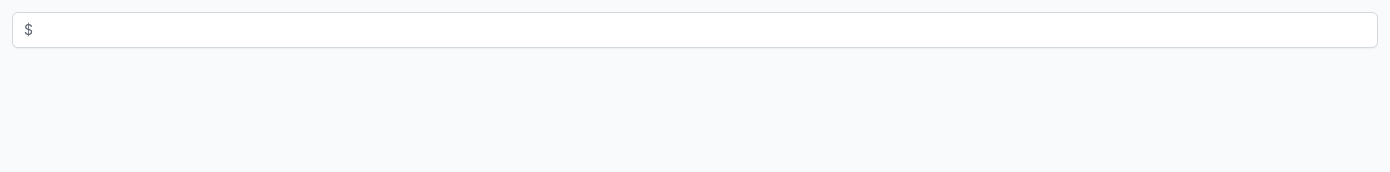
Scenario: MoneyInput › emits integer cents and flags invalid text
Type "19.99" into the field named "Amount".
click(695, 30); type("19.99")  # box [12,12,1378,48]
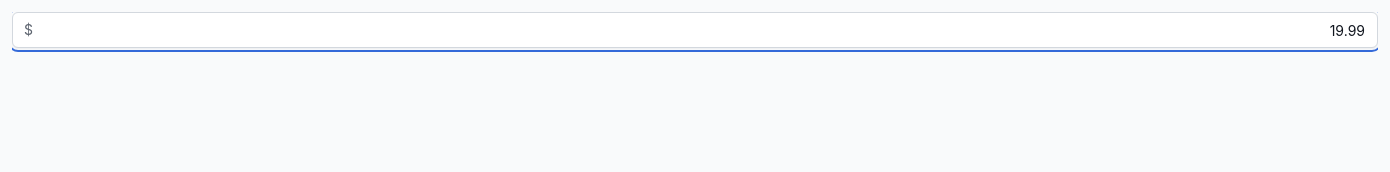
Type "9" into the field named "Amount".
click(695, 30); type("9")  # box [12,12,1378,48]
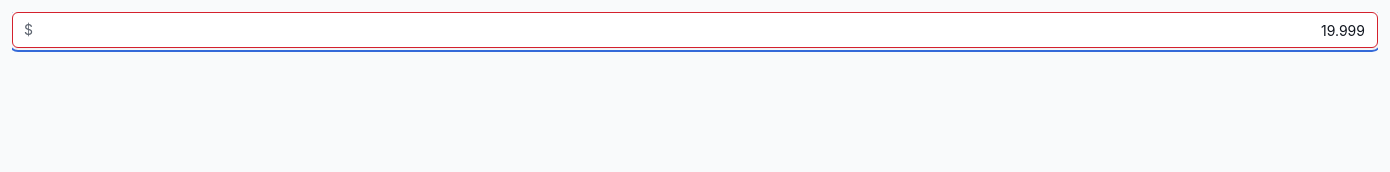
Result: the field named "Amount" is marked as invalid at [12,12,1378,48]
